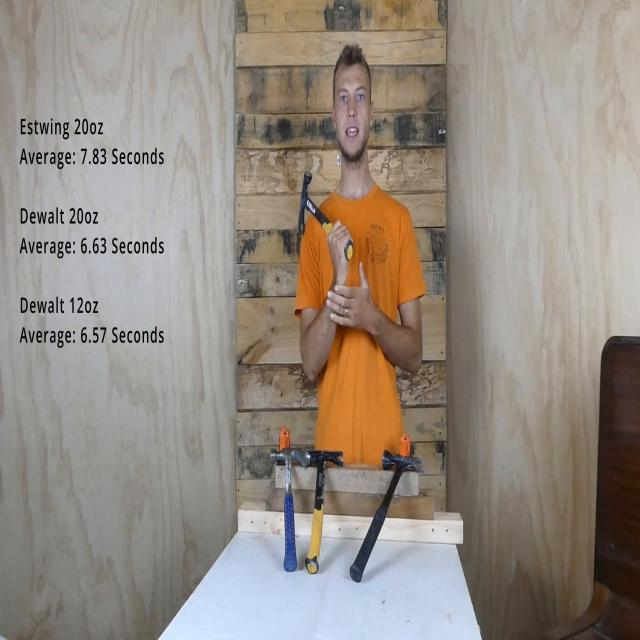hammer: (348, 448, 425, 588), (295, 164, 355, 262), (304, 445, 346, 579), (267, 441, 305, 579)
